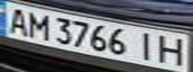3: (48, 15, 75, 45)
6: (87, 23, 112, 53), (106, 26, 130, 56)
7: (69, 18, 90, 50)
A: (3, 6, 33, 35)
H: (154, 34, 190, 66)
I: (133, 29, 160, 62)
M: (24, 10, 54, 39)
